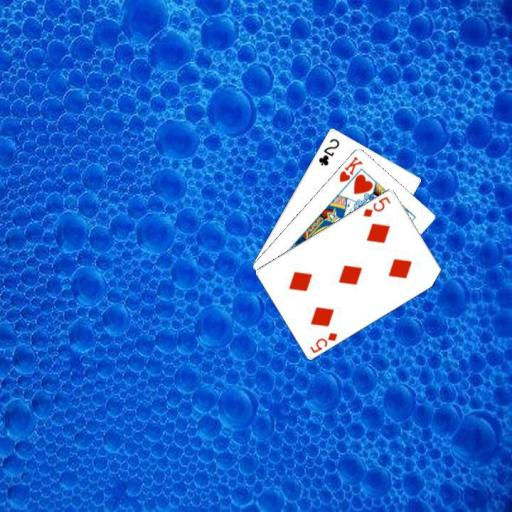2C: (315, 135, 341, 167)
5D: (360, 193, 392, 218), (307, 329, 339, 354)
KH: (336, 153, 364, 183)
